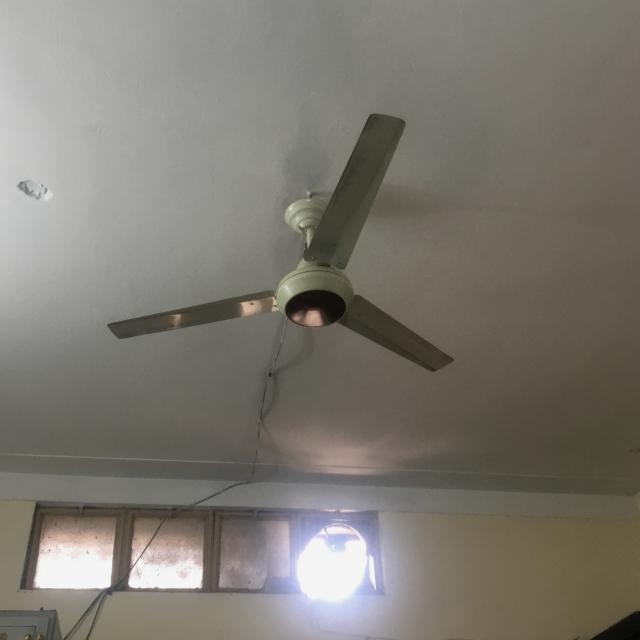off: (101, 104, 466, 383)
